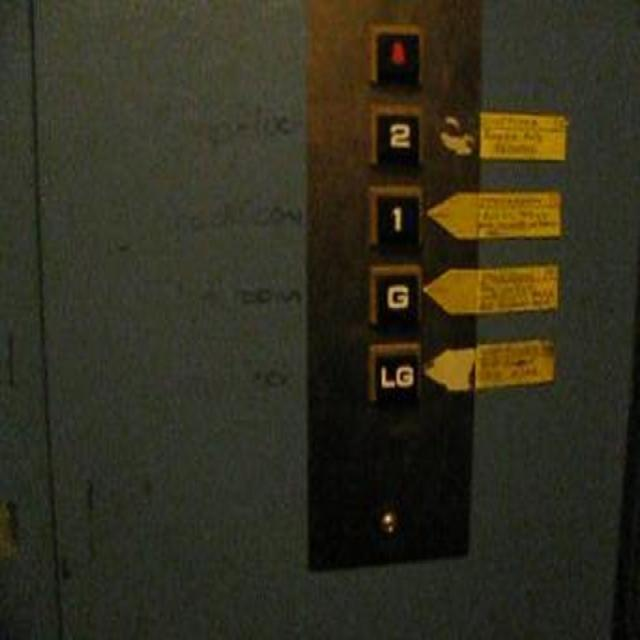1: (366, 186, 424, 253)
2: (366, 100, 424, 168)
G: (366, 260, 424, 328)
LG: (366, 338, 422, 406)
alarm: (366, 16, 424, 97)
